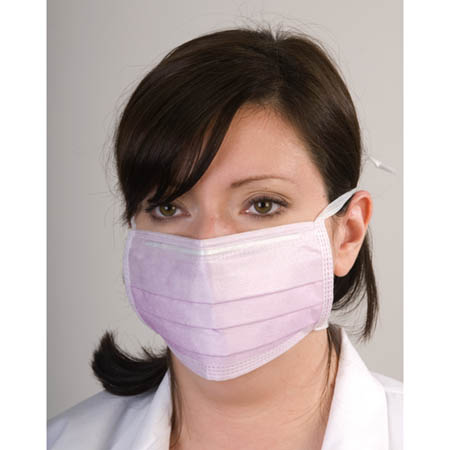mask: (129, 232, 342, 345)
